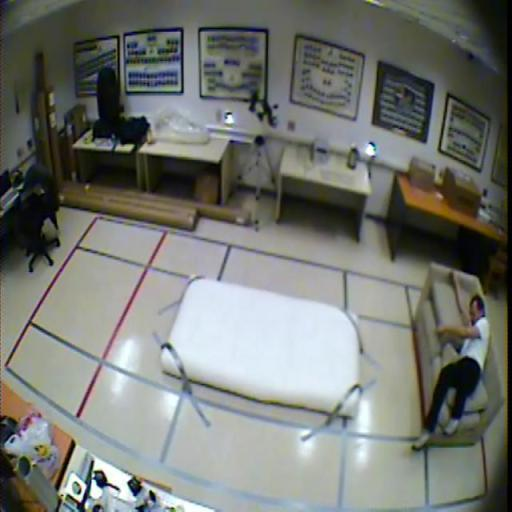Fall: (412, 270, 491, 453)
